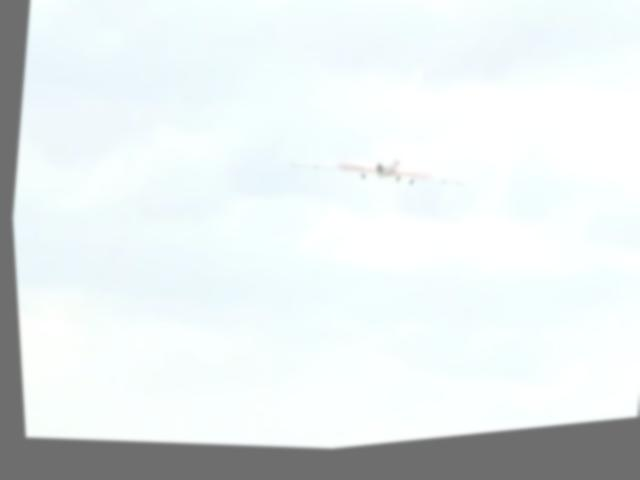flying wing: (279, 138, 469, 215)
